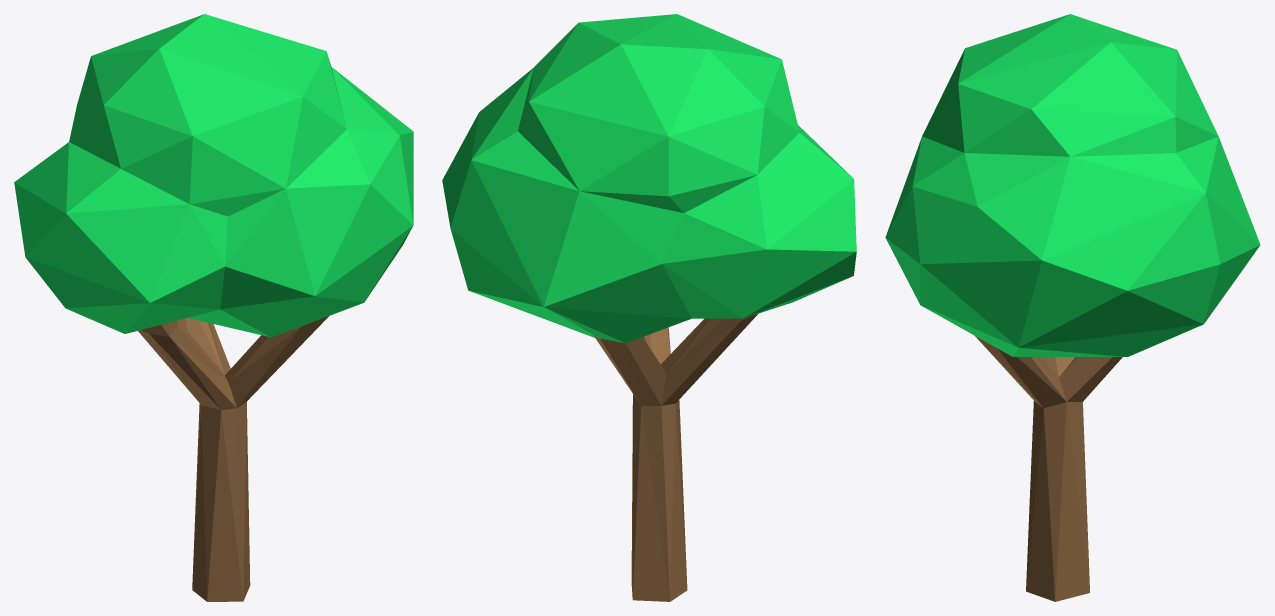
File: tree.glb
The picture shows the model from 3 angles, left to right: view 1: azimuth 30°, elevation 25°; view 2: azimuth 150°, elevation 25°; view 3: azimuth 270°, elevation 25°; orthographic projection. The views are drawn at different scales.
Visible parts, largest first — view 1: Tree; view 2: Tree; view 3: Tree.
Part boxes in pixels (x1,y1,x2,y2): Tree: [14, 14, 413, 601]; Tree: [442, 14, 856, 601]; Tree: [885, 14, 1260, 601].
Size of the model in its own units: 4.3 by 6 by 3.7.
1 material, 1 textured.
